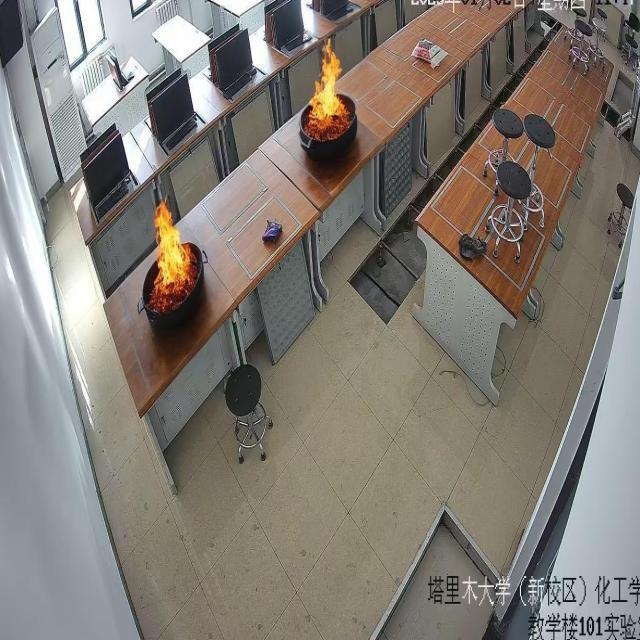smoke: (150, 198, 197, 304), (304, 34, 351, 136)
